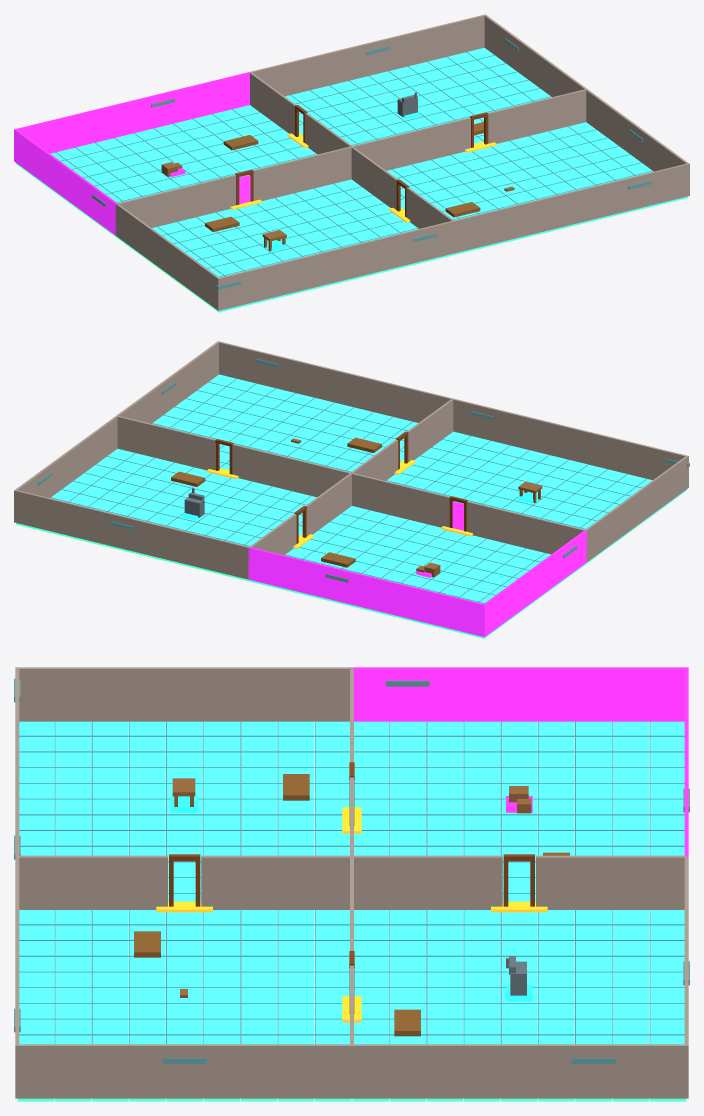
3 renders of one model, top to bottom at view 1: azimuth 30°, elevation 25°; view 2: azimuth 150°, elevation 25°; view 3: azimuth 270°, elevation 25°, orthographic. The views are drawn at different scales.
Visible parts, largest first — view 1: Surface_sewer_b1_sewage, Walls_sewer_b1_public, Walls_sewer_b1_dm_only, SurfaceGrid_sewer_b1_sewage, SewerDryBridges, ConnectorVisual_sewer_b1_sewer_door_public, SewerWallPipes; view 2: Surface_sewer_b1_sewage, Walls_sewer_b1_public, Walls_sewer_b1_dm_only, SurfaceGrid_sewer_b1_sewage, ConnectorVisual_sewer_b1_sewer_door_public, SewerDryBridges, SewerWallPipes; view 3: Surface_sewer_b1_sewage, Walls_sewer_b1_public, SurfaceGrid_sewer_b1_sewage, Walls_sewer_b1_dm_only, SewerDryBridges, ConnectorVisual_sewer_b1_sewer_door_public, SewerWallPipes, Anchors_sewer_b1_public, Features_sewer_b1_sewer_b1:pump_hall_pump_controls_public.
Boxes of the visible parts, bbox=[...] form: Surface_sewer_b1_sewage: bbox=[16, 47, 687, 312]; Walls_sewer_b1_public: bbox=[115, 14, 689, 310]; Walls_sewer_b1_dm_only: bbox=[14, 71, 250, 235]; SurfaceGrid_sewer_b1_sewage: bbox=[55, 51, 652, 276]; SewerDryBridges: bbox=[205, 122, 483, 231]; ConnectorVisual_sewer_b1_sewer_door_public: bbox=[235, 105, 488, 217]; SewerWallPipes: bbox=[92, 38, 651, 289]; Surface_sewer_b1_sewage: bbox=[16, 374, 686, 638]; Walls_sewer_b1_public: bbox=[14, 341, 688, 579]; Walls_sewer_b1_dm_only: bbox=[248, 530, 587, 637]; SurfaceGrid_sewer_b1_sewage: bbox=[50, 378, 647, 603]; ConnectorVisual_sewer_b1_sewer_door_public: bbox=[215, 431, 467, 543]; SewerDryBridges: bbox=[171, 437, 381, 567]; SewerWallPipes: bbox=[38, 358, 689, 582]; Surface_sewer_b1_sewage: bbox=[17, 721, 686, 1101]; Walls_sewer_b1_public: bbox=[15, 667, 688, 1098]; SurfaceGrid_sewer_b1_sewage: bbox=[19, 721, 684, 1044]; Walls_sewer_b1_dm_only: bbox=[350, 667, 688, 857]; SewerDryBridges: bbox=[134, 774, 569, 1036]; ConnectorVisual_sewer_b1_sewer_door_public: bbox=[169, 762, 534, 1014]; SewerWallPipes: bbox=[14, 678, 689, 1063]; Anchors_sewer_b1_public: bbox=[171, 796, 532, 1001]; Features_sewer_b1_sewer_b1:pump_hall_pump_controls_public: bbox=[506, 956, 526, 995].
Bounding box in the file's own units: 24.18 × 1.72 × 18.18.
